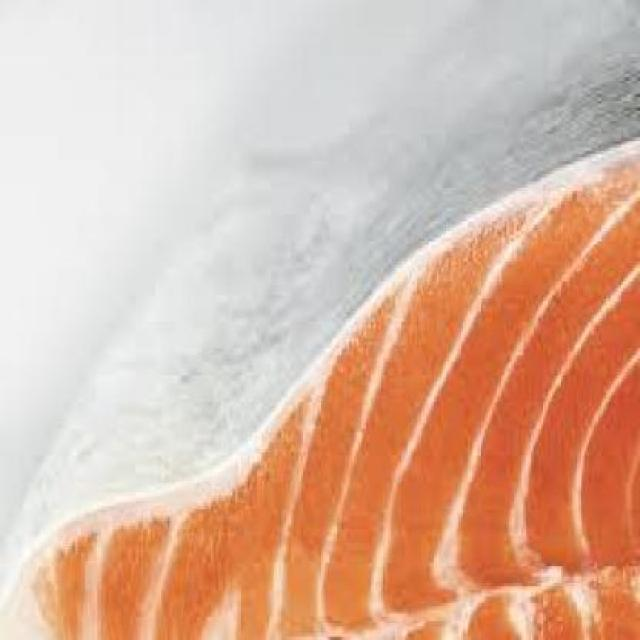salmon: (1, 140, 640, 629)
